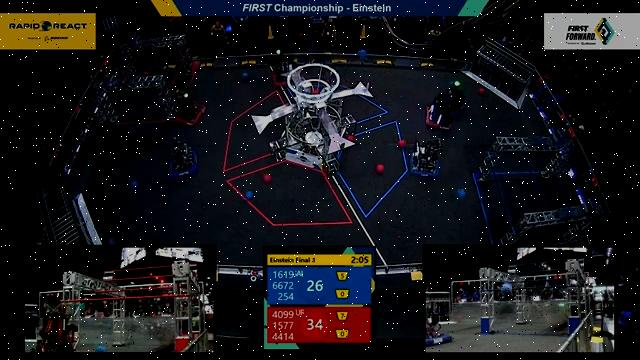Robot: (163, 85, 212, 131), (159, 136, 207, 179), (405, 135, 445, 183), (418, 95, 458, 135), (268, 51, 303, 91), (439, 79, 469, 113)
